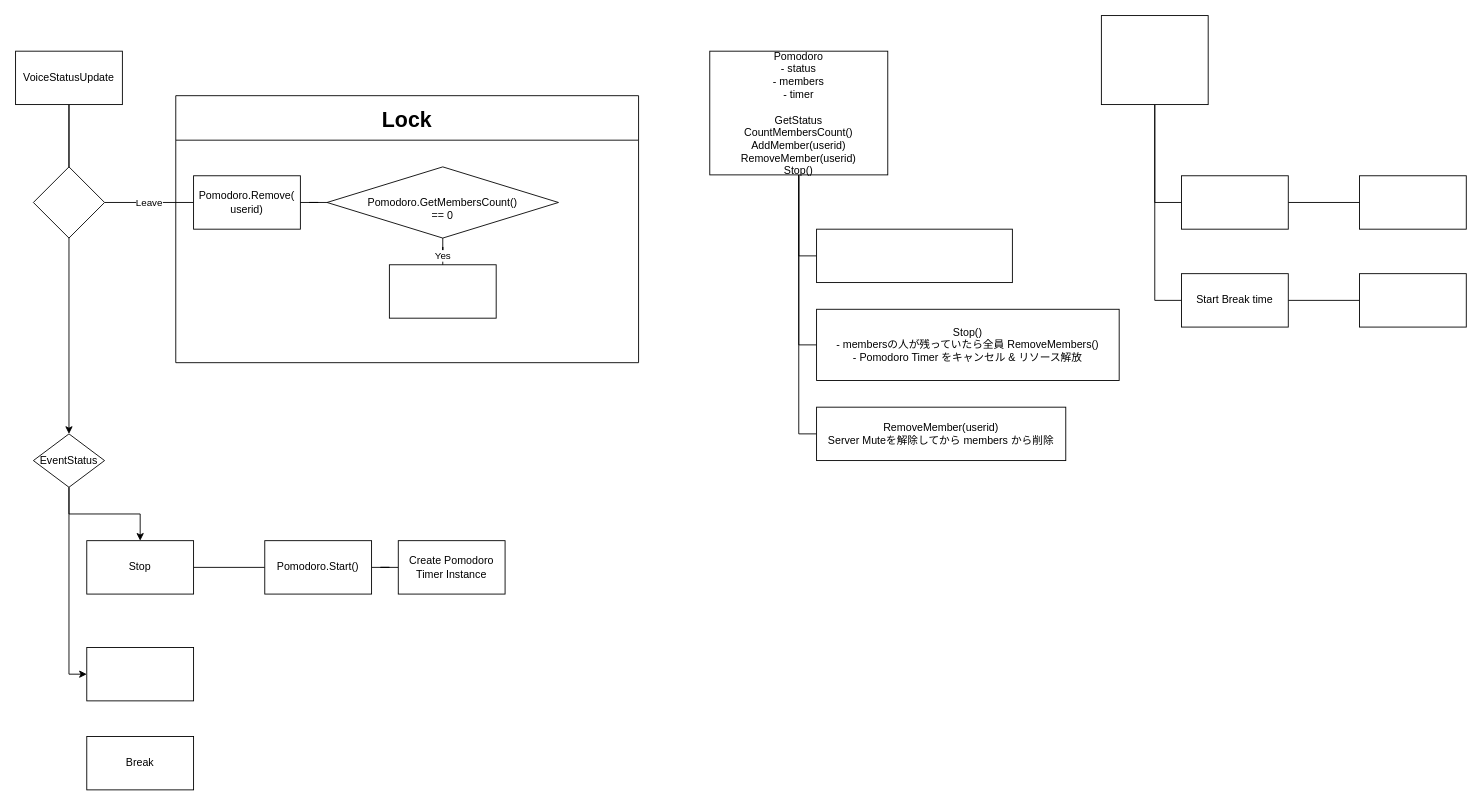
The diagram is 1482 pixels wide and 805 high, and some of its shapes have lost their labels. The centre of each missing label's shape, as x and y in pixels:
"isJoin?" goes at point 68,202.
"Pomodoro Timer taskTimeMin breakTimeMin checkInterval" goes at point 1154,60.
"Pomodoro.Stop()" goes at point 442,291.
"set end-datetime" goes at point 1412,202.
"set stop-datetime" goes at point 1412,300.
"Start() - membersの中の人を一人ずつミュート - statusをStartにする." goes at point 914,255.
"Task" goes at point 140,674.
